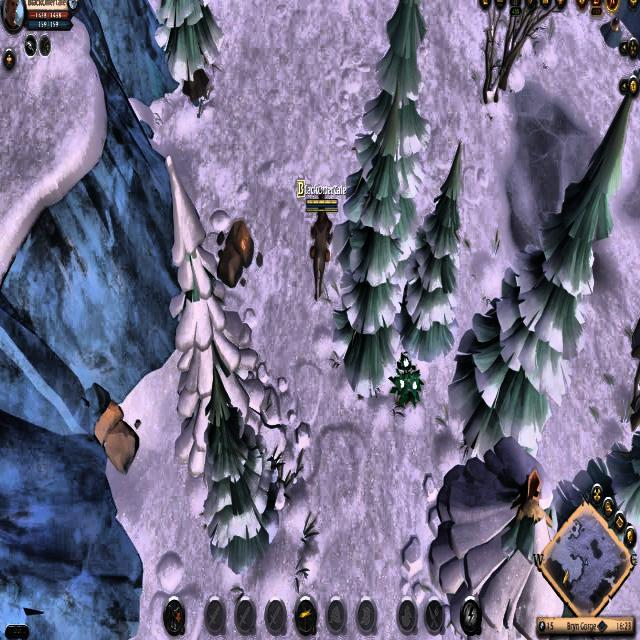limestone: (89, 394, 142, 472), (212, 217, 255, 284)
